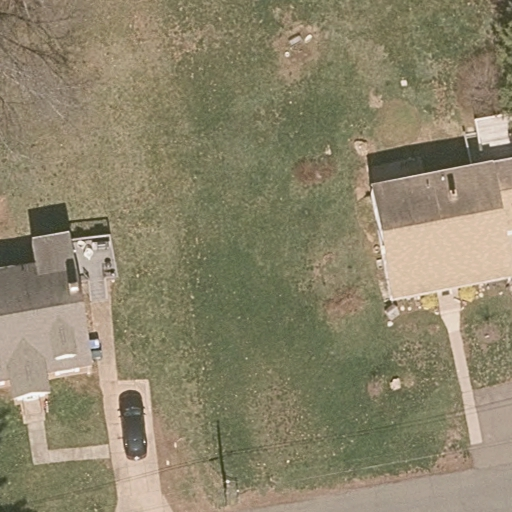DT: (223, 477, 240, 510)
